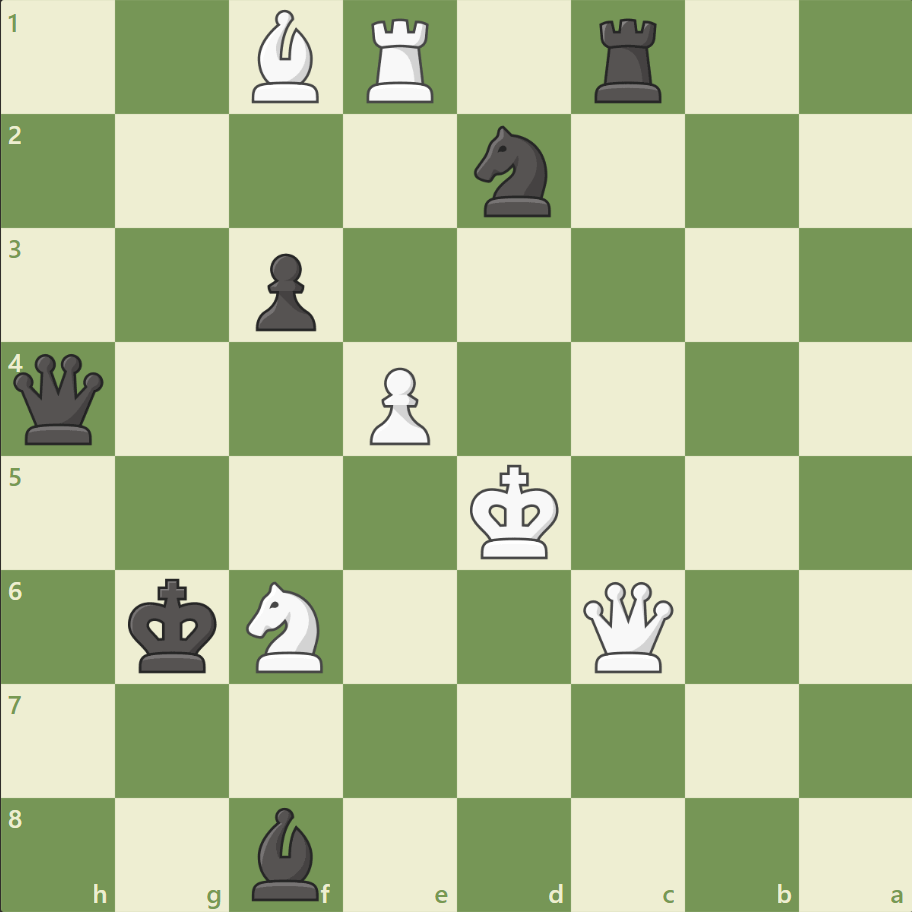B: (251, 12, 330, 115)
K: (469, 467, 567, 568)
N: (246, 581, 335, 682)
P: (369, 362, 441, 447)
Q: (581, 580, 682, 682)
R: (365, 13, 443, 113)
b: (251, 806, 330, 910)
k: (128, 580, 226, 682)
n: (473, 127, 562, 228)
p: (255, 249, 327, 333)
q: (14, 353, 115, 455)
r: (592, 13, 670, 113)
